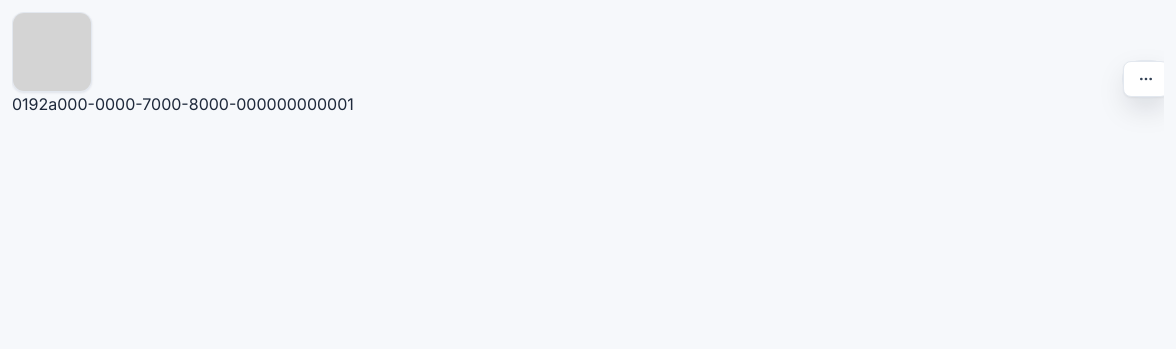
DeviceProfilePicture › removes the picture and keeps the image
Click the button named "Profile picture options": x=1144, y=79 [1123,61,1164,97]
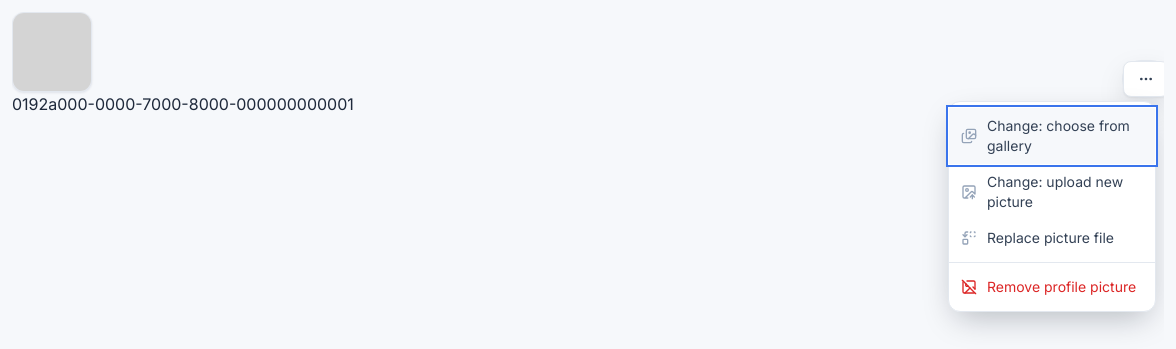
Click the menu item "Remove profile picture": x=1052, y=287 [949,269,1155,305]
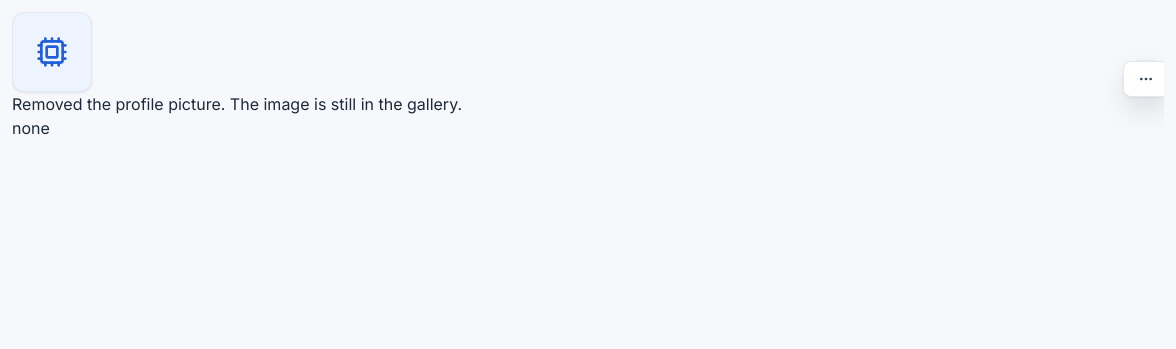
Result: the text "Removed the profile picture. The image is still in the gallery." is shown at [12,94,462,114]
Result: the text with test id "device-picture" reads "none" at [12,118,50,138]
Result: the picture named "Profile picture of Infusion pump (no picture)" is shown at [12,12,92,92]
